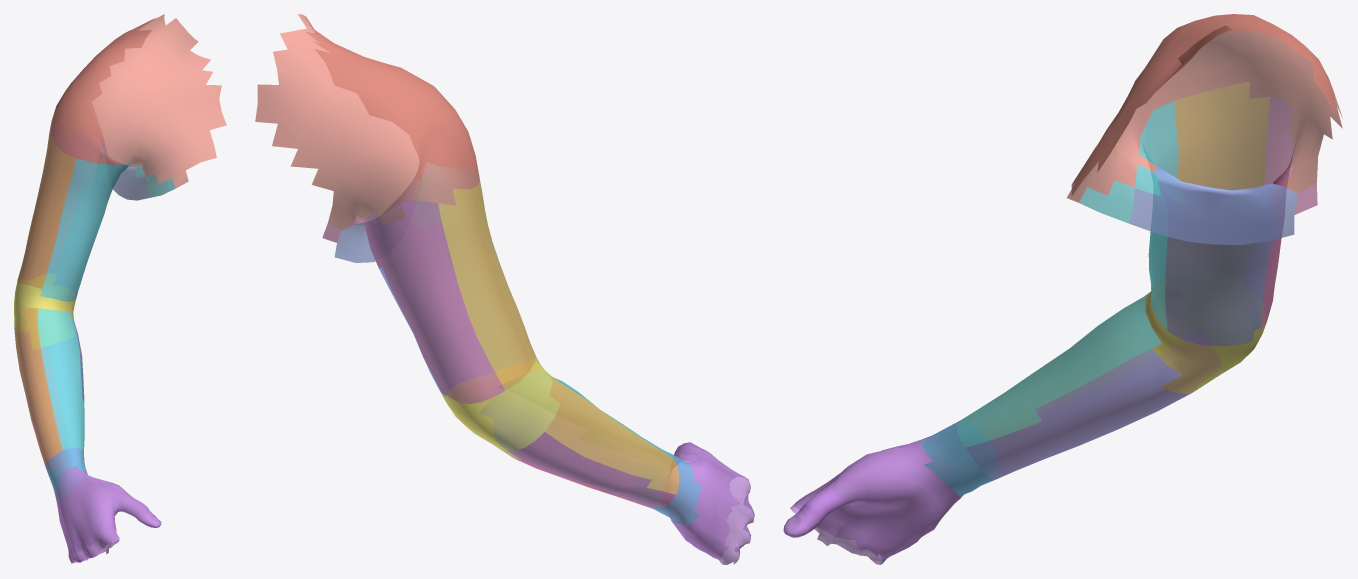
The model's file is right_arm_c1.glb.
3 renders of one model, left to right at view 1: azimuth 30°, elevation 25°; view 2: azimuth 150°, elevation 25°; view 3: azimuth 270°, elevation 25°, orthographic. The views are drawn at different scales.
Parts seen in each view (by area): view 1: zone_right_shoulder, zone_right_upper_arm_front, zone_right_upper_arm_back, zone_right_hand, zone_right_forearm_front, zone_right_upper_arm_inner, zone_right_upper_arm_outer, zone_right_forearm_back, zone_right_elbow, zone_right_forearm_outer, zone_right_forearm_inner, zone_right_wrist; view 2: zone_right_shoulder, zone_right_upper_arm_back, zone_right_upper_arm_inner, zone_right_upper_arm_front, zone_right_upper_arm_outer, zone_right_hand, zone_right_forearm_inner, zone_right_elbow, zone_right_forearm_outer, zone_right_forearm_front, zone_right_forearm_back, zone_right_wrist; view 3: zone_right_shoulder, zone_right_upper_arm_inner, zone_right_hand, zone_right_upper_arm_outer, zone_right_forearm_outer, zone_right_forearm_back, zone_right_forearm_inner, zone_right_elbow, zone_right_forearm_front, zone_right_upper_arm_front, zone_right_upper_arm_back, zone_right_wrist.
Boxes of the visible parts, x1,y1,x2,y2 form: zone_right_shoulder: (48, 14, 226, 188); zone_right_upper_arm_front: (40, 158, 175, 301); zone_right_upper_arm_back: (18, 124, 105, 279); zone_right_hand: (54, 466, 161, 563); zone_right_forearm_front: (37, 308, 84, 450); zone_right_upper_arm_inner: (51, 143, 149, 300); zone_right_upper_arm_outer: (17, 133, 76, 288); zone_right_forearm_back: (15, 331, 66, 470); zone_right_elbow: (14, 274, 76, 349); zone_right_forearm_outer: (14, 308, 62, 464); zone_right_forearm_inner: (47, 320, 84, 468); zone_right_wrist: (45, 448, 87, 500); zone_right_shoulder: (255, 14, 479, 230); zone_right_upper_arm_back: (322, 200, 504, 403); zone_right_upper_arm_inner: (334, 180, 488, 400); zone_right_upper_arm_front: (415, 163, 538, 372); zone_right_upper_arm_outer: (438, 179, 535, 390); zone_right_hand: (661, 442, 754, 564); zone_right_forearm_inner: (480, 390, 642, 503); zone_right_elbow: (440, 356, 560, 460); zone_right_forearm_outer: (545, 375, 679, 494); zone_right_forearm_front: (499, 372, 673, 459); zone_right_forearm_back: (506, 432, 675, 508); zone_right_wrist: (635, 451, 700, 525); zone_right_shoulder: (1066, 14, 1342, 202); zone_right_upper_arm_inner: (1129, 166, 1298, 346); zone_right_hand: (783, 435, 960, 564); zone_right_upper_arm_outer: (1165, 81, 1269, 281); zone_right_forearm_outer: (966, 287, 1199, 440); zone_right_forearm_back: (992, 329, 1221, 478); zone_right_forearm_inner: (966, 349, 1192, 479); zone_right_elbow: (1145, 266, 1267, 393); zone_right_forearm_front: (957, 291, 1161, 447); zone_right_upper_arm_front: (1079, 101, 1186, 330); zone_right_upper_arm_back: (1243, 97, 1317, 326); zone_right_wrist: (920, 420, 998, 497).
Size of the model in its own units: 0.3255 by 0.5711 by 0.412.
